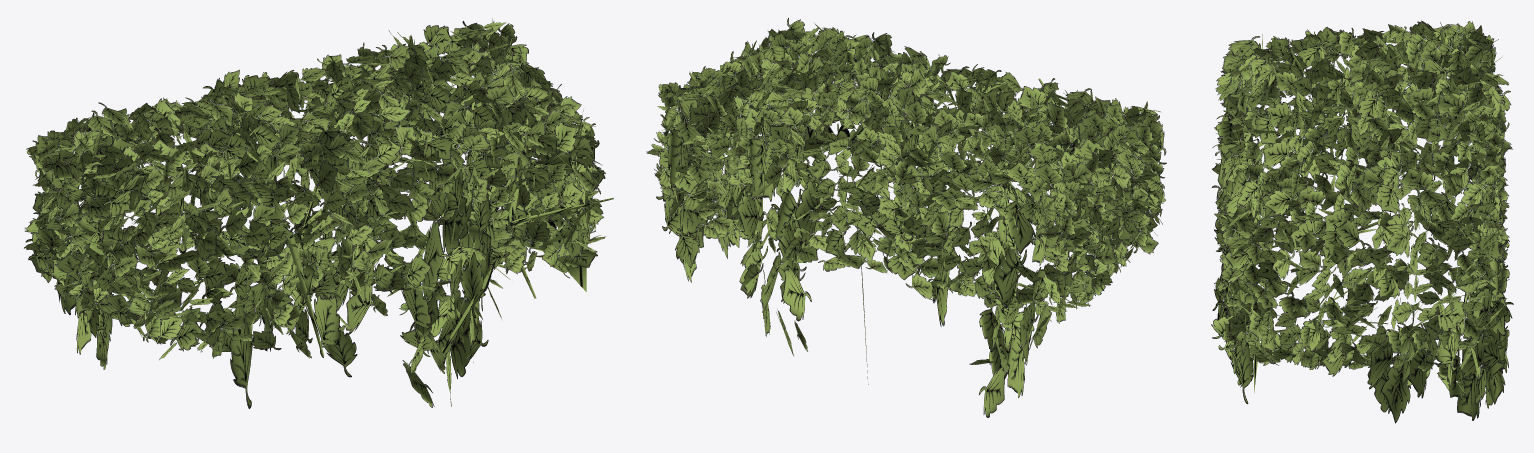
File: Square_Bush.FBX
3 views of the same model, side by side, from view 1: azimuth 30°, elevation 25°; view 2: azimuth 150°, elevation 25°; view 3: azimuth 270°, elevation 25° (orthographic). The views are drawn at different scales.
Parts seen in each view (by area): view 1: Square_Bush; view 2: Square_Bush; view 3: Square_Bush.
Part boxes in pixels (x1,y1,x2,y2): Square_Bush: (24, 18, 613, 408); Square_Bush: (646, 18, 1166, 417); Square_Bush: (1211, 20, 1513, 423).
Size of the model in its own units: 10585 by 7170 by 5977.
Materials: 2 (2 with a texture image).
